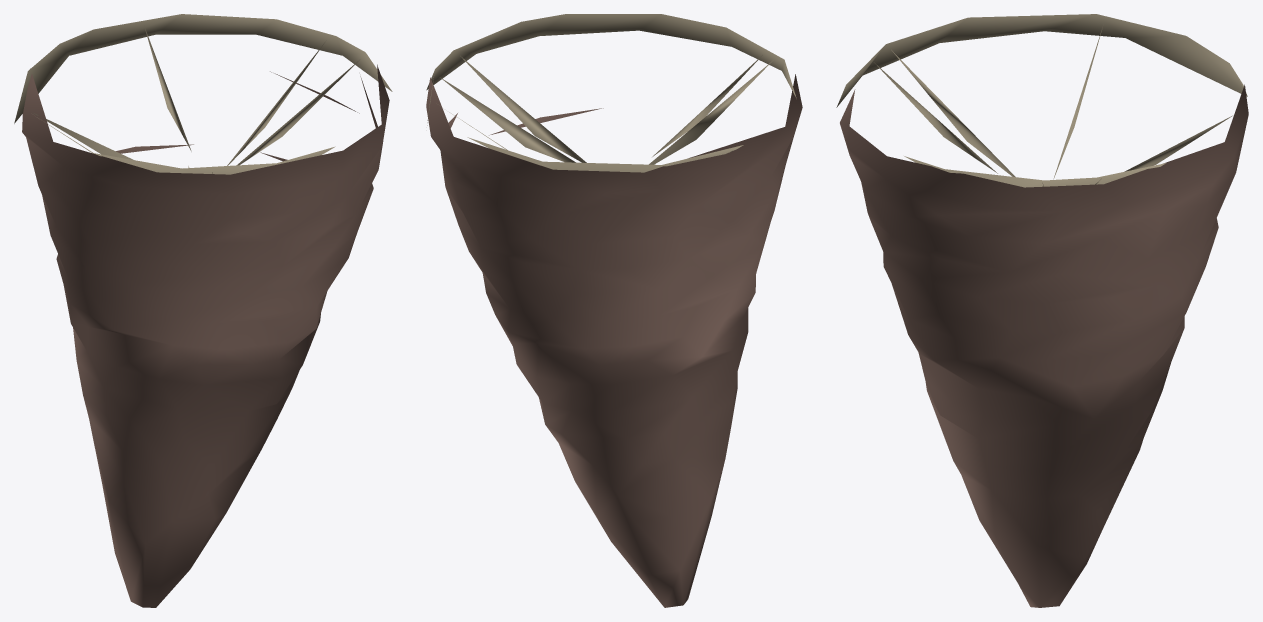
Rendered from solitary-rugose-coral.glb.
3 views of the same model, side by side, from view 1: azimuth 30°, elevation 25°; view 2: azimuth 150°, elevation 25°; view 3: azimuth 270°, elevation 25° (orthographic). The views are drawn at different scales.
Visible parts, largest first — view 1: solitary-rugose-coral; view 2: solitary-rugose-coral; view 3: solitary-rugose-coral.
Boxes of the visible parts, x1,y1,x2,y2 form: solitary-rugose-coral: (14,14,392,607); solitary-rugose-coral: (426,14,802,607); solitary-rugose-coral: (836,14,1248,607).
Size of the model in its own units: 0.3815 by 0.55 by 0.38.
